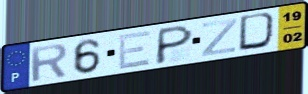6: (71, 38, 104, 76)
D: (236, 11, 281, 53)
E: (117, 28, 153, 71)
P: (152, 23, 195, 66)
R: (29, 42, 70, 84)
Z: (199, 17, 239, 58)
